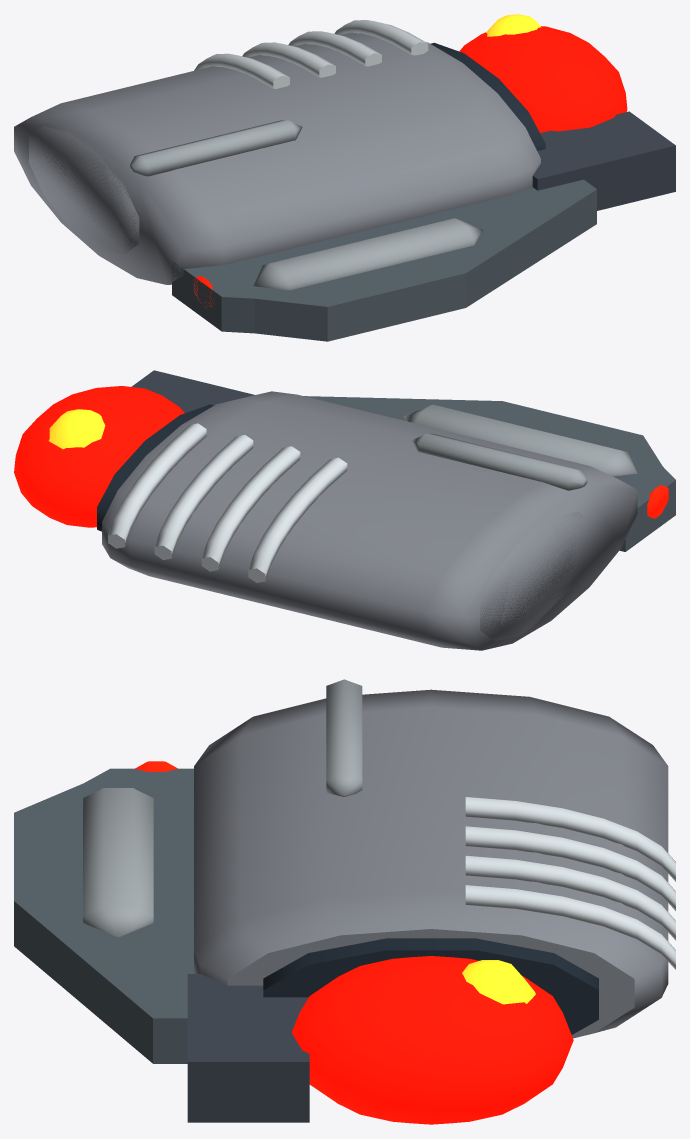
The model's file is newshv-87.glb.
3 renders of one model, top to bottom at view 1: azimuth 30°, elevation 25°; view 2: azimuth 150°, elevation 25°; view 3: azimuth 270°, elevation 25°, orthographic. The views are drawn at different scales.
Visible parts, largest first — view 1: newshv-87; view 2: newshv-87; view 3: newshv-87.
Part boxes in pixels (x1,y1,x2,y2): newshv-87: (14, 14, 675, 341); newshv-87: (14, 370, 675, 650); newshv-87: (14, 679, 675, 1124).
Bounding box in the file's own units: 1.85 × 0.4349 × 1.59.
